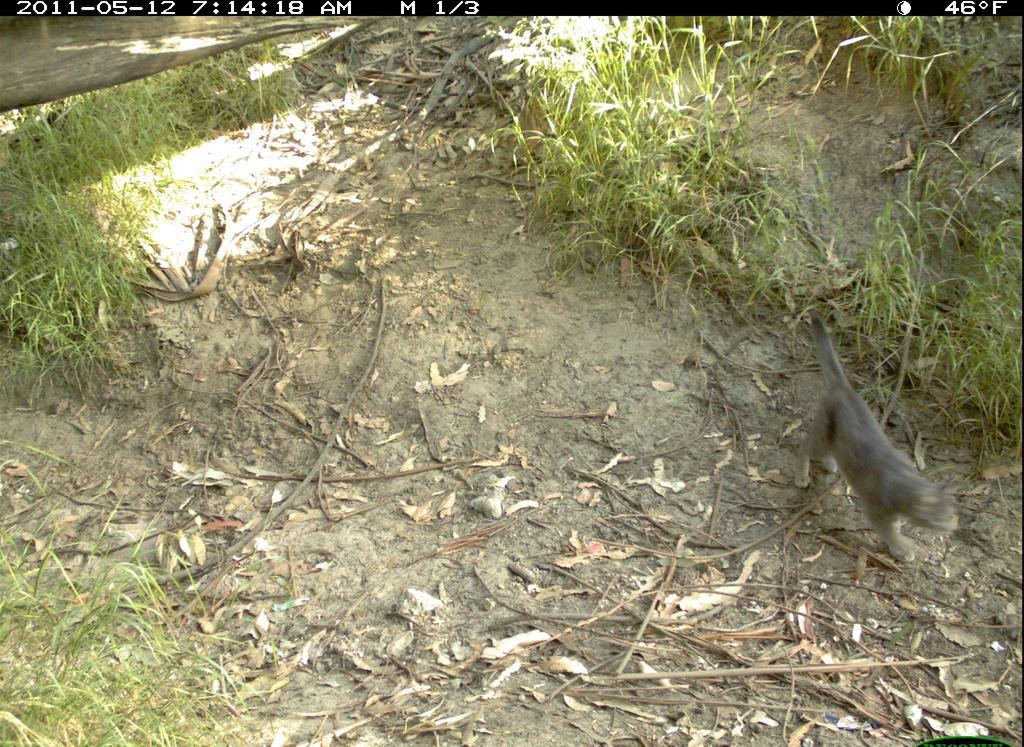cat: (775, 301, 973, 566)
